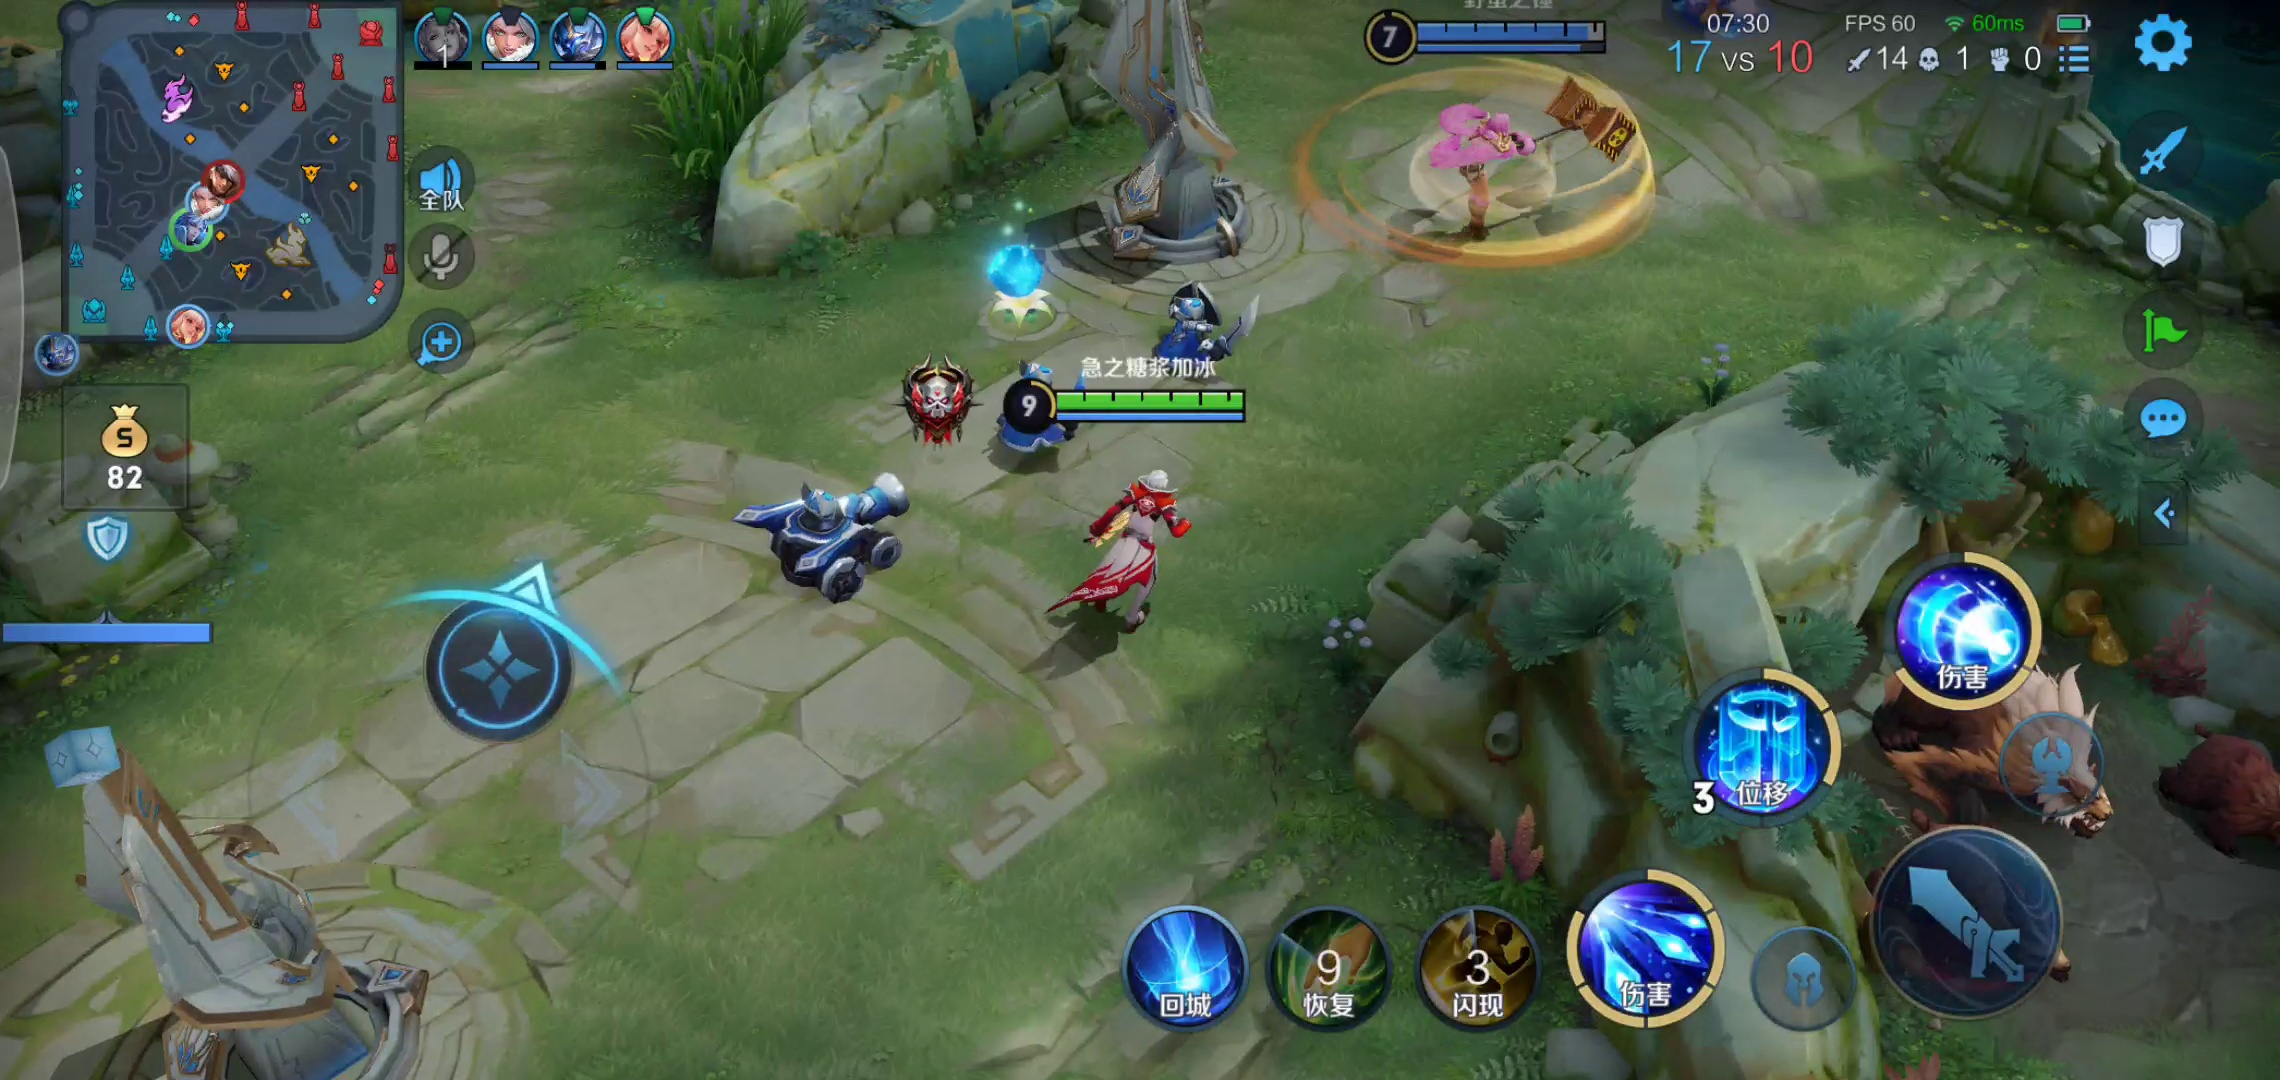grass: (662, 15, 768, 161)
hero: (1415, 94, 1592, 257), (1067, 464, 1194, 651)
soldier: (752, 465, 916, 602), (986, 365, 1092, 470), (1149, 291, 1256, 378)
tower: (32, 727, 414, 1080), (1045, 1, 1274, 262)
wild_monster: (1861, 544, 2257, 1031)
